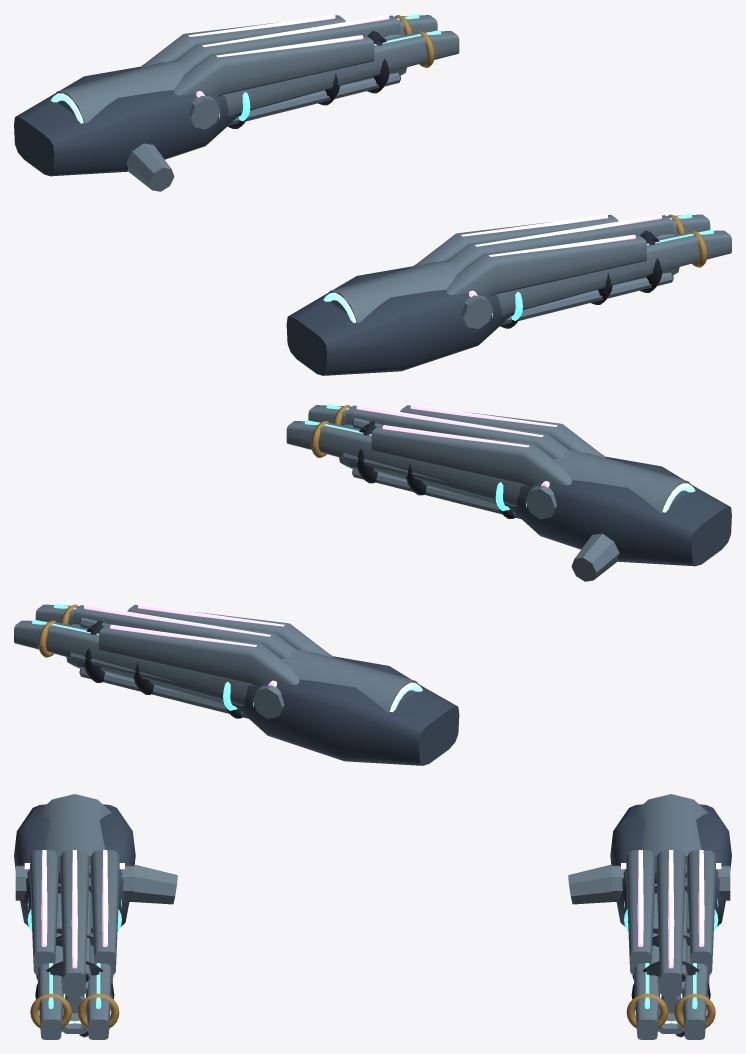
File: mount.glb
The picture shows the model from 3 angles, top to bottom: view 1: azimuth 30°, elevation 25°; view 2: azimuth 150°, elevation 25°; view 3: azimuth 270°, elevation 25°; orthographic projection. The views are drawn at different scales.
Parts seen in each view (by area): view 1: m_heavy Fitting gunmetal, m_array Brushed fitting edges, m_siege Brushed fitting edges, m_rotary Brushed fitting edges, m_array m_array emitter, m_heavy Brushed fitting edges, m_rotary Machined graphite, m_siege m_siege emitter, m_siege Champagne gold edging, m_rotary m_rotary emitter; view 2: m_heavy Fitting gunmetal, m_array Brushed fitting edges, m_siege Brushed fitting edges, m_rotary Brushed fitting edges, m_array m_array emitter, m_heavy Brushed fitting edges, m_rotary Machined graphite, m_siege m_siege emitter, m_siege Champagne gold edging, m_rotary m_rotary emitter; view 3: m_array Brushed fitting edges, m_rotary Brushed fitting edges, m_heavy Fitting gunmetal, m_siege Brushed fitting edges, m_heavy Brushed fitting edges, m_array m_array emitter, m_siege Champagne gold edging, m_siege m_siege emitter, m_rotary Machined graphite, m_siege Machined graphite.
Part boxes in pixels (bbox=[...]): m_heavy Fitting gunmetal: bbox=[14, 66, 511, 375]; m_array Brushed fitting edges: bbox=[140, 15, 673, 328]; m_siege Brushed fitting edges: bbox=[222, 15, 731, 316]; m_rotary Brushed fitting edges: bbox=[51, 59, 672, 325]; m_array m_array emitter: bbox=[188, 14, 661, 297]; m_heavy Brushed fitting edges: bbox=[126, 34, 679, 282]; m_rotary Machined graphite: bbox=[318, 30, 673, 304]; m_siege m_siege emitter: bbox=[219, 14, 713, 320]; m_siege Champagne gold edging: bbox=[395, 15, 707, 267]; m_rotary m_rotary emitter: bbox=[50, 93, 356, 322]; m_heavy Fitting gunmetal: bbox=[234, 456, 731, 765]; m_array Brushed fitting edges: bbox=[72, 405, 605, 718]; m_siege Brushed fitting edges: bbox=[14, 405, 523, 706]; m_rotary Brushed fitting edges: bbox=[70, 418, 694, 718]; m_array m_array emitter: bbox=[84, 404, 557, 687]; m_heavy Brushed fitting edges: bbox=[66, 424, 619, 704]; m_rotary Machined graphite: bbox=[79, 419, 426, 694]; m_siege m_siege emitter: bbox=[32, 404, 526, 710]; m_siege Champagne gold edging: bbox=[38, 405, 350, 657]; m_rotary m_rotary emitter: bbox=[389, 483, 695, 712]; m_array Brushed fitting edges: bbox=[15, 850, 730, 996]; m_rotary Brushed fitting edges: bbox=[37, 794, 709, 1037]; m_heavy Fitting gunmetal: bbox=[14, 804, 731, 926]; m_siege Brushed fitting edges: bbox=[37, 883, 708, 1039]; m_heavy Brushed fitting edges: bbox=[60, 865, 684, 1033]; m_array m_array emitter: bbox=[24, 850, 721, 968]; m_siege Champagne gold edging: bbox=[30, 993, 715, 1028]; m_siege m_siege emitter: bbox=[27, 899, 718, 1008]; m_rotary Machined graphite: bbox=[35, 935, 710, 1036]; m_siege Machined graphite: bbox=[50, 928, 695, 976].
Bounding box in the file's own units: 17 × 3.72 × 23.6.
